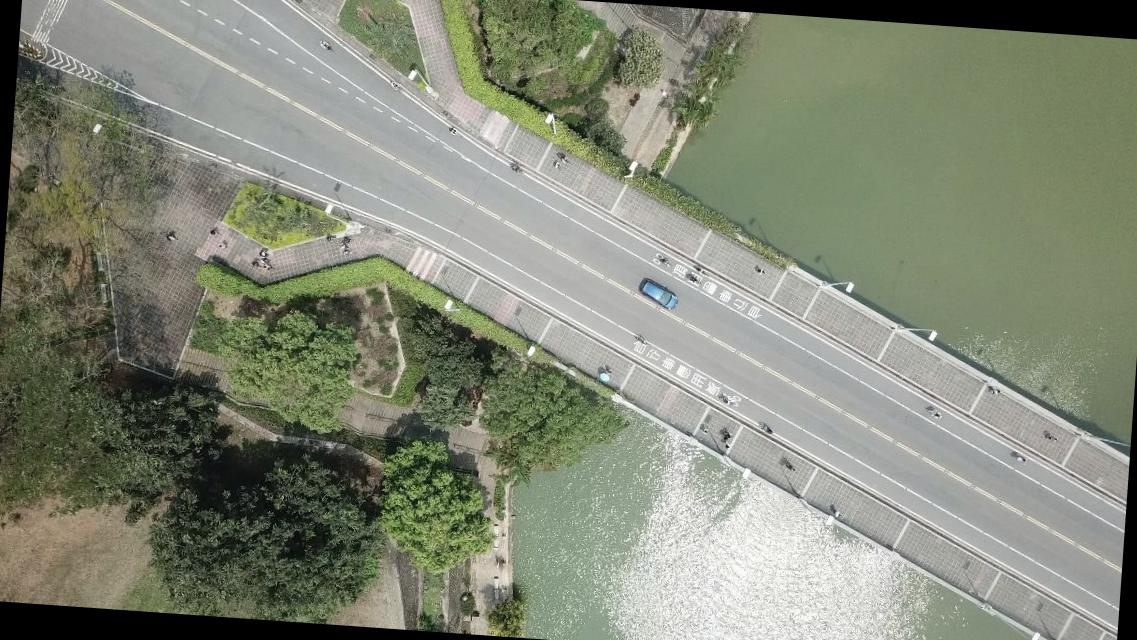vehicle: (637, 276, 679, 312)
